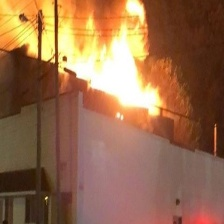fire: (83, 50, 166, 118)
smoke: (1, 1, 119, 28)
